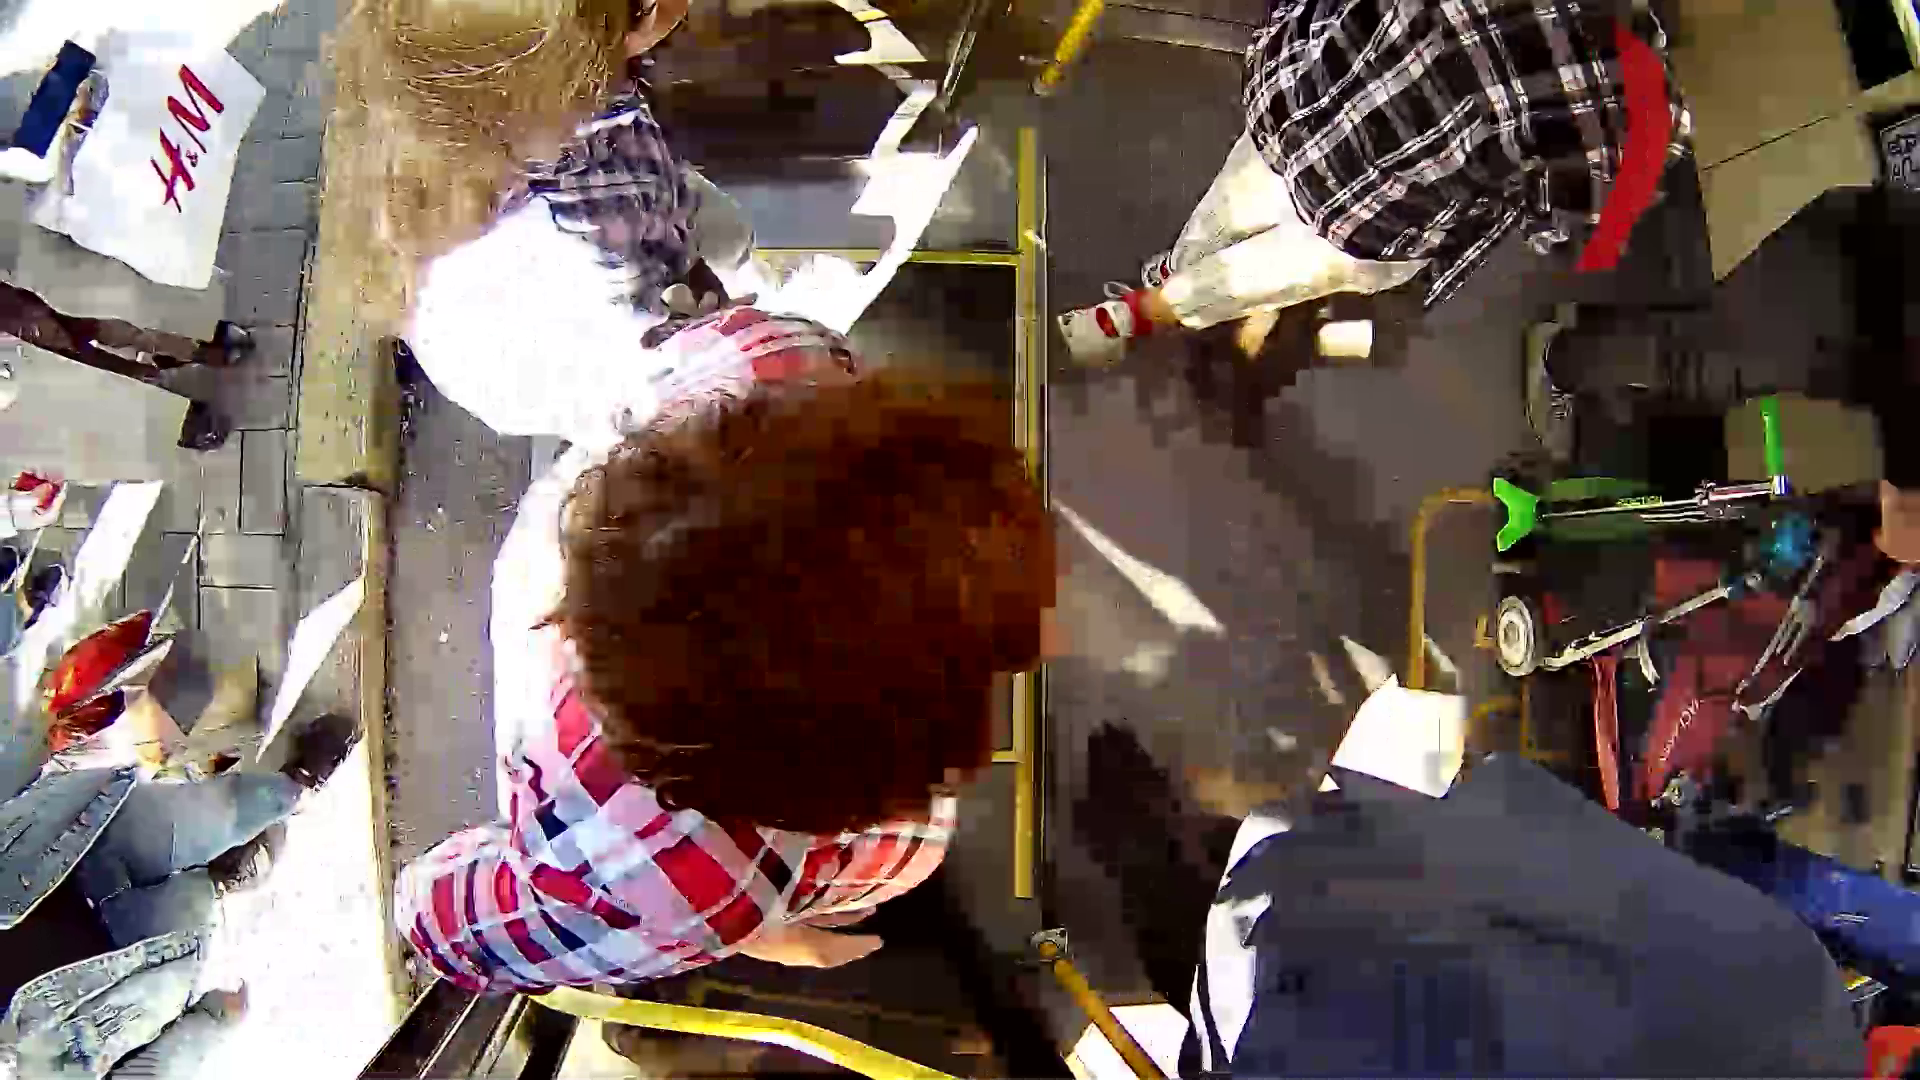person: (406, 287, 1130, 919)
